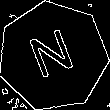N_S: (26, 26, 81, 87)
